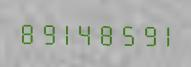eight: (93, 19, 111, 47), (17, 18, 35, 45)
five: (112, 20, 130, 47)
four: (74, 19, 92, 46)
nine: (36, 18, 54, 46), (131, 20, 149, 47)
one: (150, 20, 168, 48), (55, 19, 73, 46)
